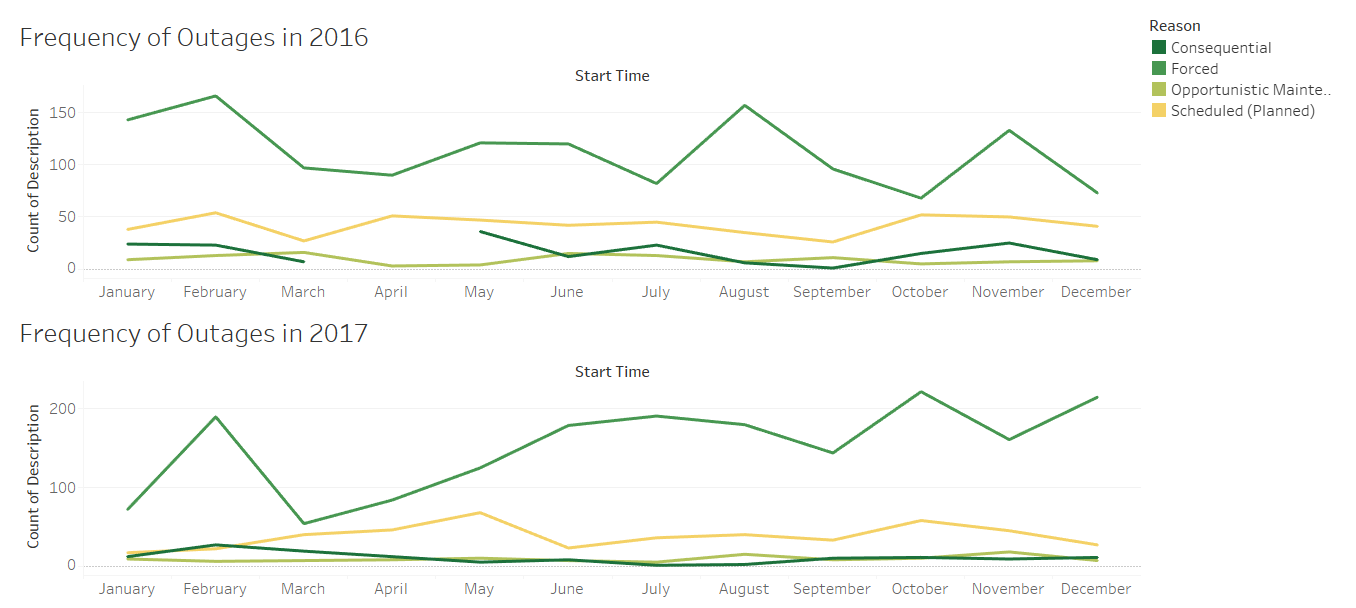

The dashboard page shown, as its layout file describes it:
{"tool":"tableau","page":{"name":"Frequency of Outages","canvas":[1000,1000],"units":"permille","ordinal":2},"visuals":[{"type":"worksheet","title":"Frequency of Outages in 2016","mark":"Automatic","rows":["Description"],"cols":["Start_Time"],"box":[6.3,14.1,839.6,486.8]},{"type":"legend","title":"Frequency of Outages in 2016","param":"[federated.1tv6ulq1fnpj2y120luwg15yobnx].[none:Reason:nk]","box":[845.9,14.1,147.8,486.8]},{"type":"worksheet","title":"Frequency of Outages in 2017","mark":"Automatic","rows":["Description"],"cols":["Start_Time"],"box":[6.3,500,839.6,485.9]},{"type":"blank","box":[845.9,500.9,147.8,485]}]}

Visuals, with their boxes on the dashboard's canvas, which has no fixed pixel size, in thousandths of its width and height (x1, y1, x2, y2). These are canvas units, not pixel positions in the 1356x608 screenshot, which may show the page scaled, cropped or inside an application window:
"Frequency of Outages in 2016" worksheet: bbox(6, 14, 846, 501)
"Frequency of Outages in 2016" legend: bbox(846, 14, 994, 501)
"Frequency of Outages in 2017" worksheet: bbox(6, 500, 846, 986)
blank: bbox(846, 501, 994, 986)
